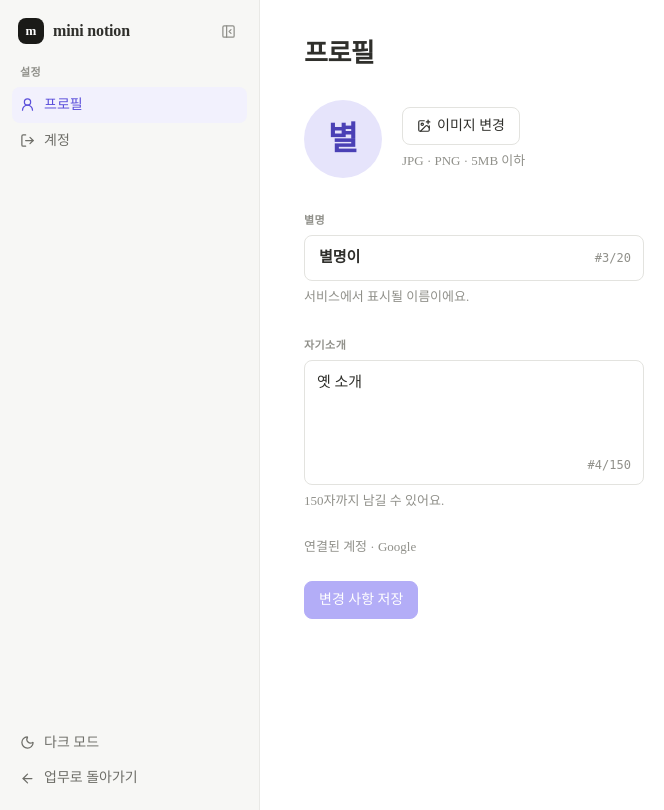
Scenario: 자기소개 수정·비우기 (US2) › 기존 자기소개를 수정해 저장하면 새 값이 반영된다 (FR-005 수정)
Expected: the field named "별명" holds "별명이", x1=317 y1=245 x2=585 y2=271
Replace the text in the text box named "자기소개" with "새 소개입니다": (474, 408) x1=317 y1=370 x2=631 y2=446
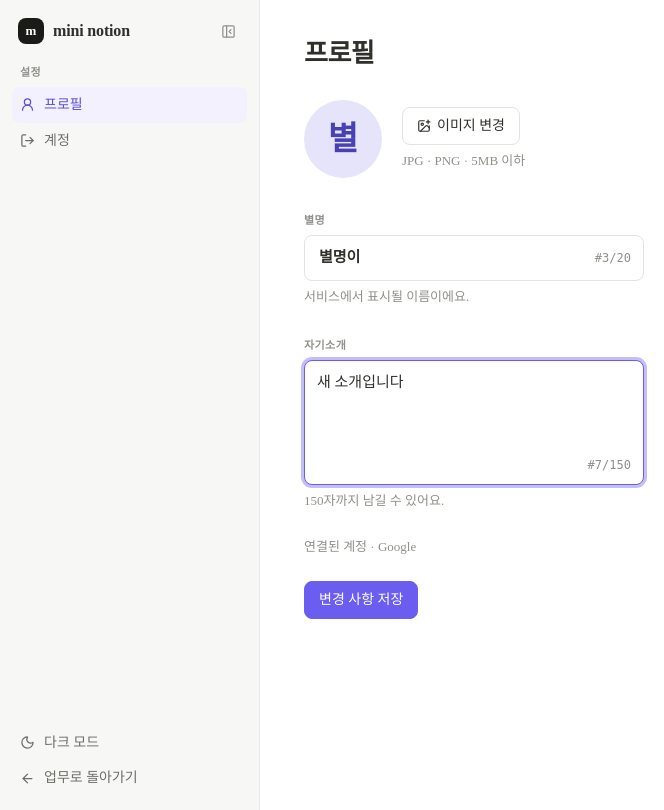
Click the button "변경 사항 저장": (361, 600) x1=304 y1=581 x2=418 y2=619
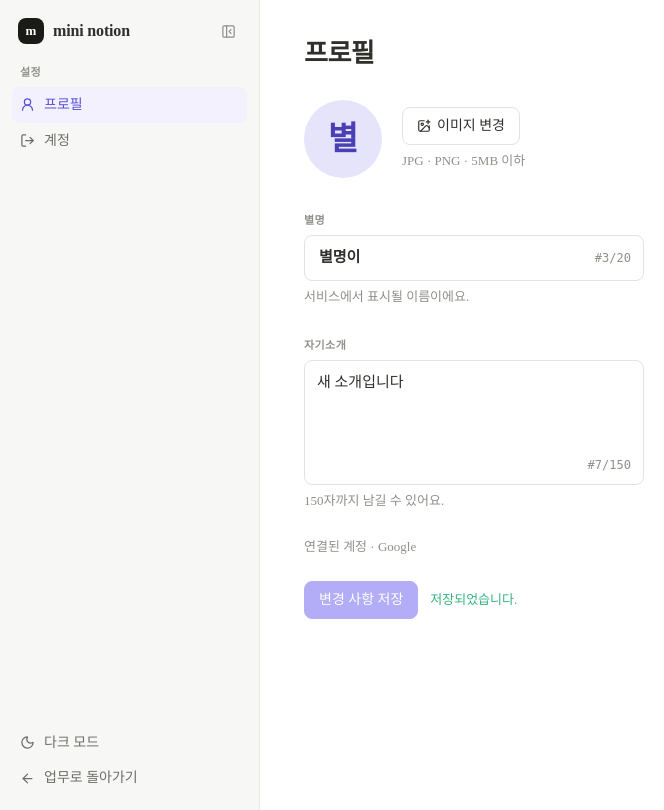
Expected: the text "저장되었습니다." is shown, x1=430 y1=590 x2=517 y2=610
